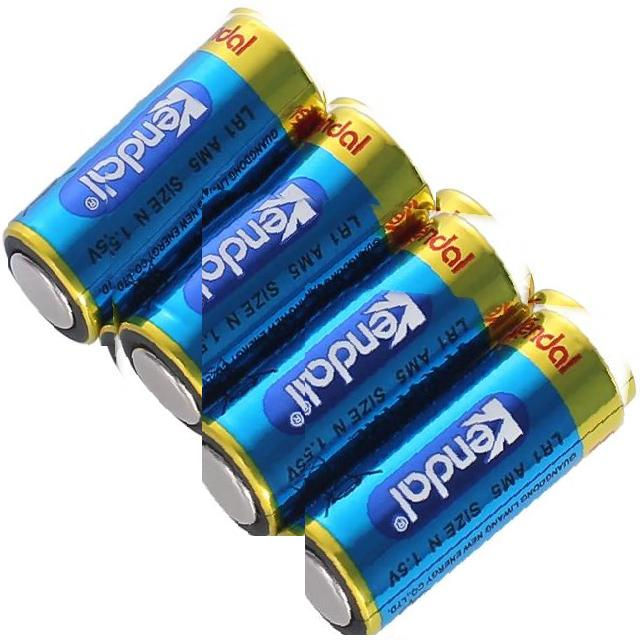battery: (305, 284, 637, 636), (202, 188, 536, 536), (100, 95, 436, 438), (8, 6, 324, 346)
